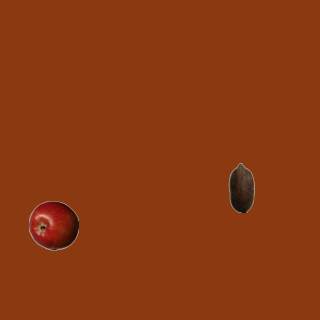Apple Braeburn: (28, 200, 78, 250)
Nut Pecan: (216, 162, 266, 212)
